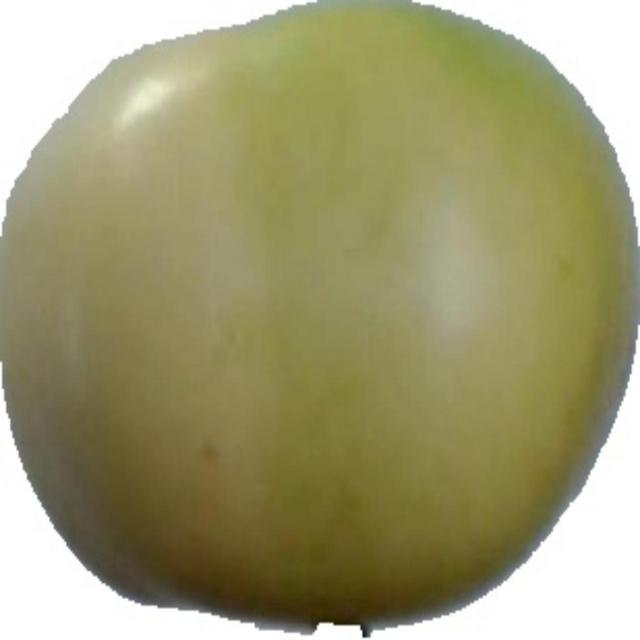apple: (15, 2, 638, 636)
